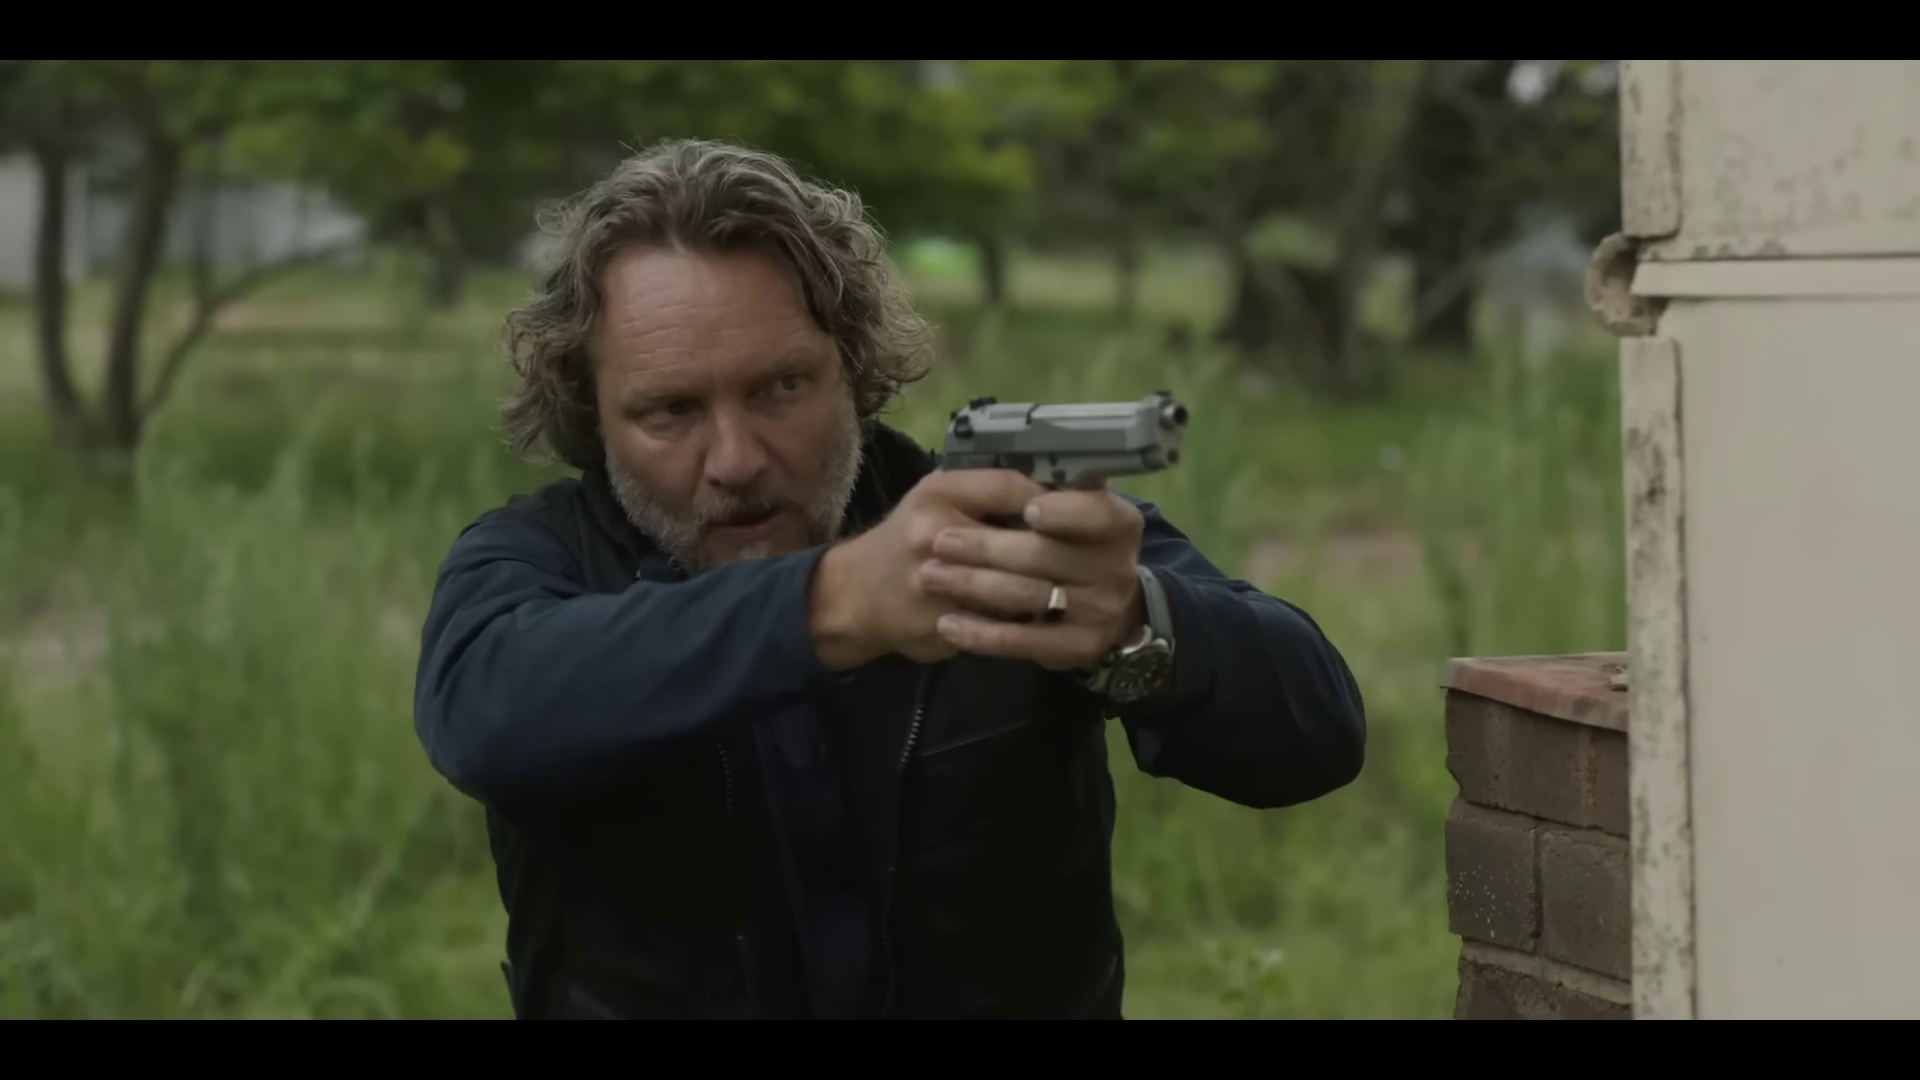gun: (934, 376, 1191, 579)
p_w_gun: (406, 135, 1371, 1022)
